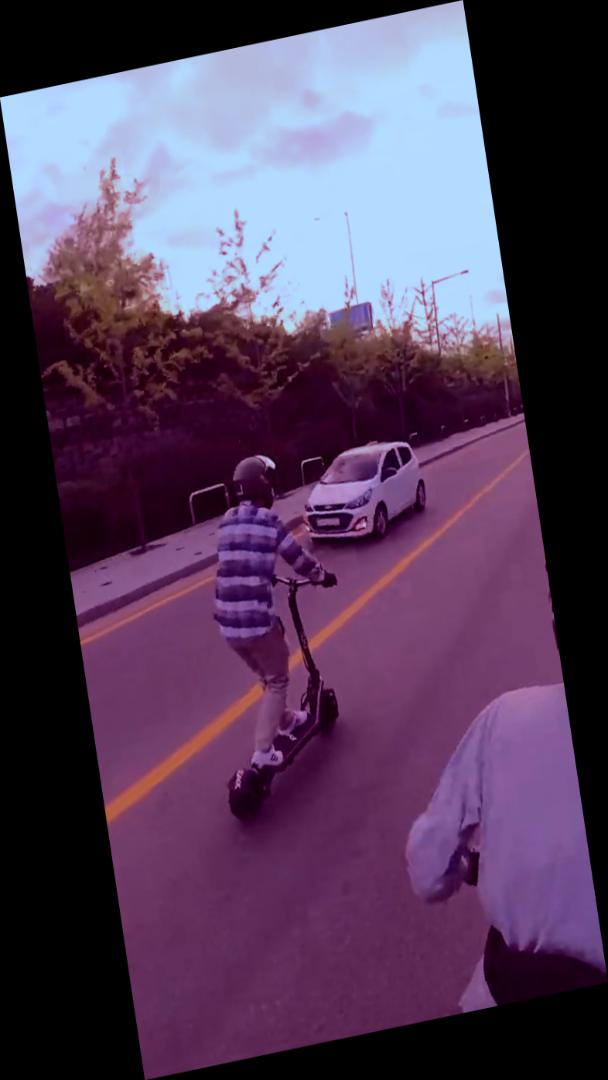helmet: (175, 437, 373, 829)
